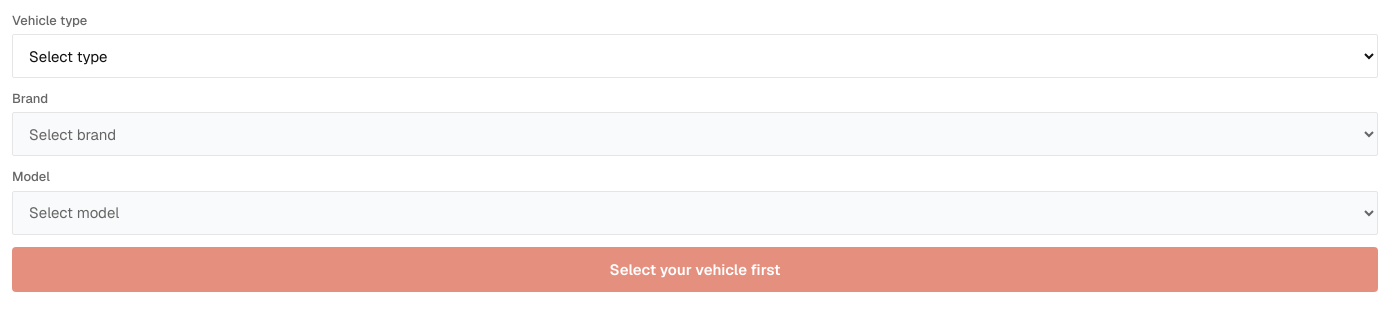
Scenario: VehicleSelector › enables brand select after selecting a type
Select "Car" in the dropdown labelled "Vehicle type" at (695, 56), box [12,34,1378,78]
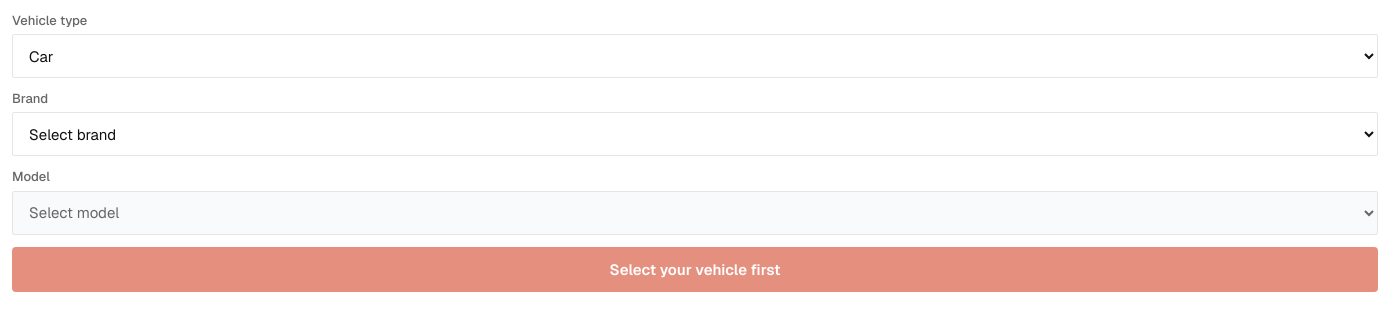
Now the dropdown labelled "Brand" is enabled, box [12,112,1378,156]
